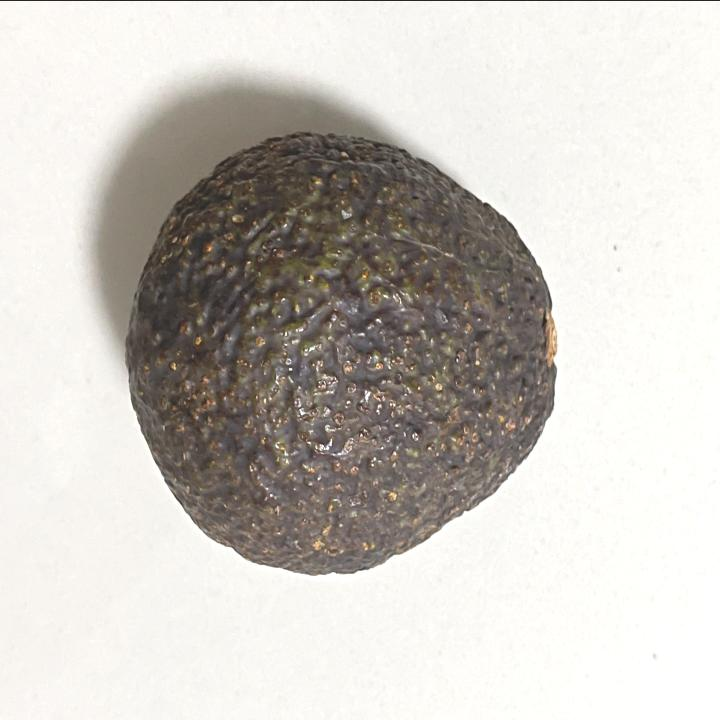Level2: (116, 122, 566, 590)
